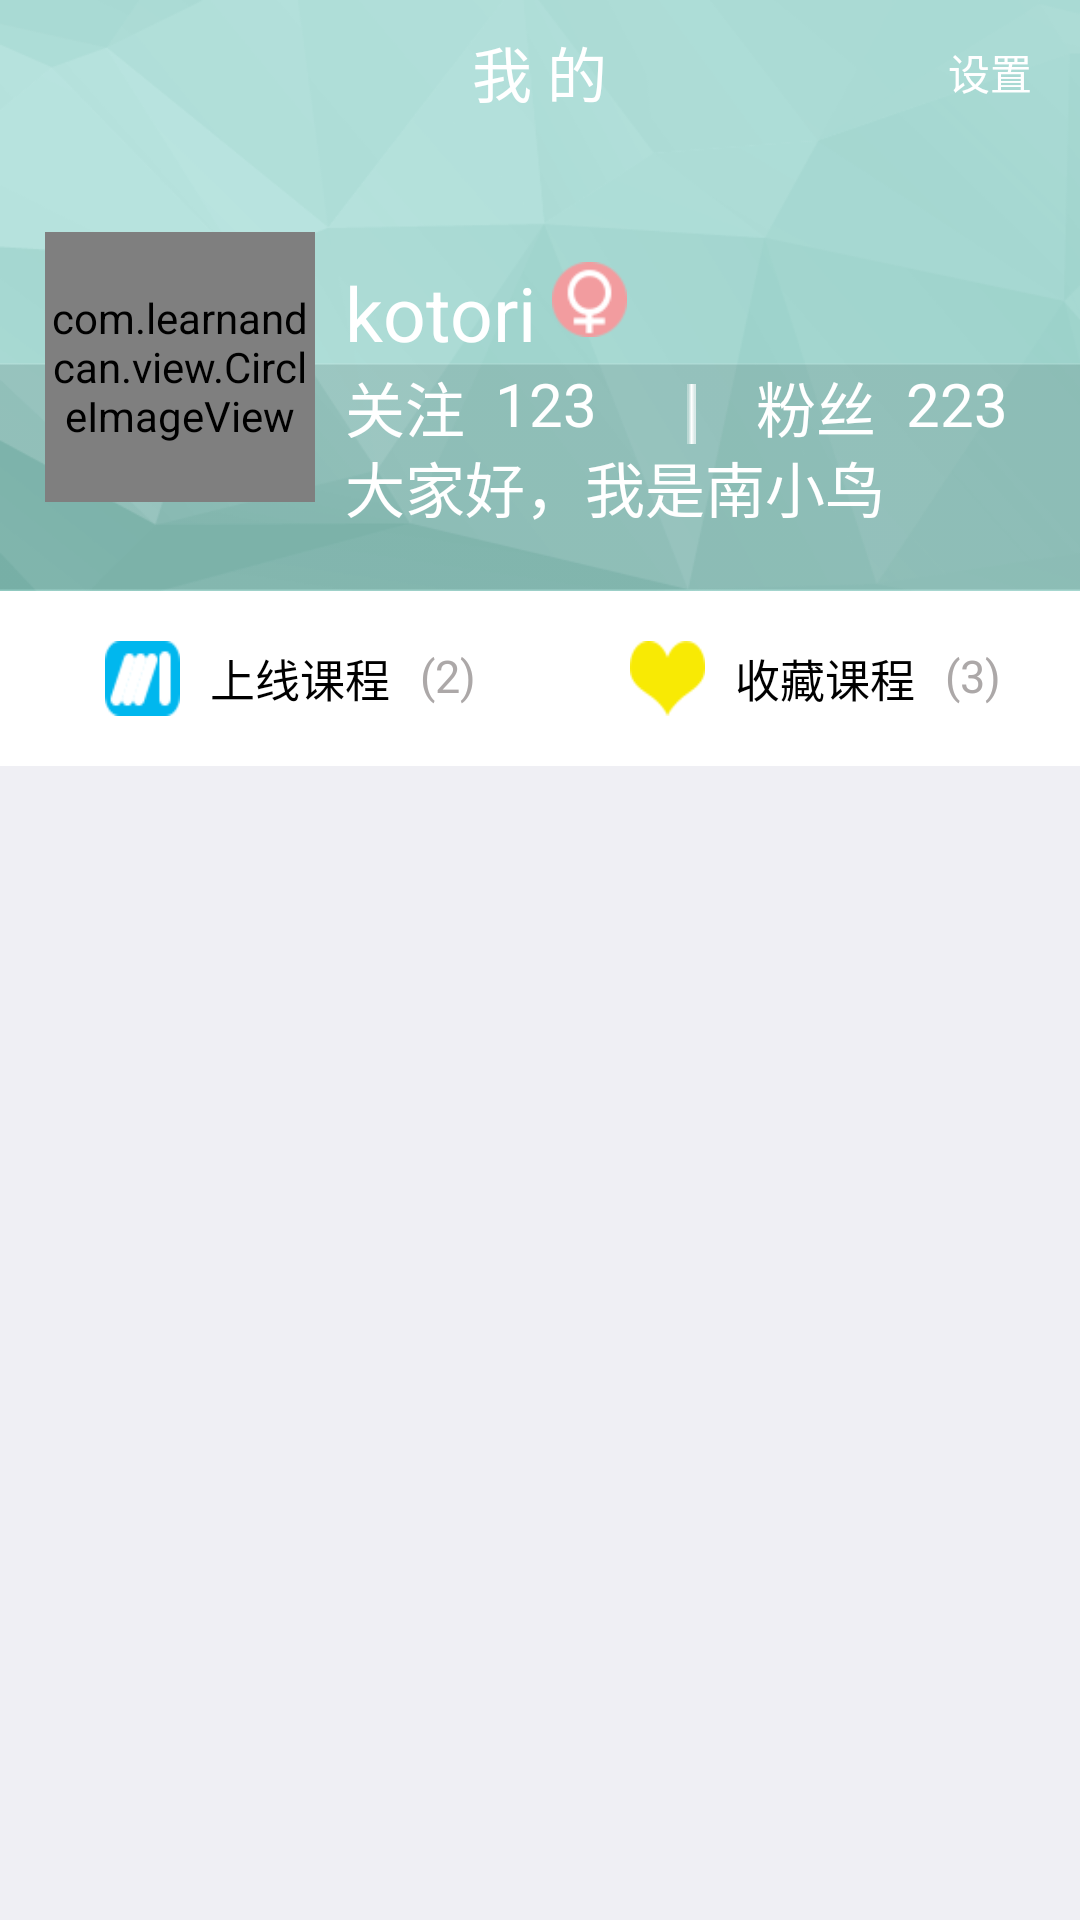

Named icons in this screenshot (1080px×1920px) and their bounding boxes, (x1, y1, x2, y2):
lesson collection: (630, 641, 705, 716)
sex female: (552, 262, 627, 337)
